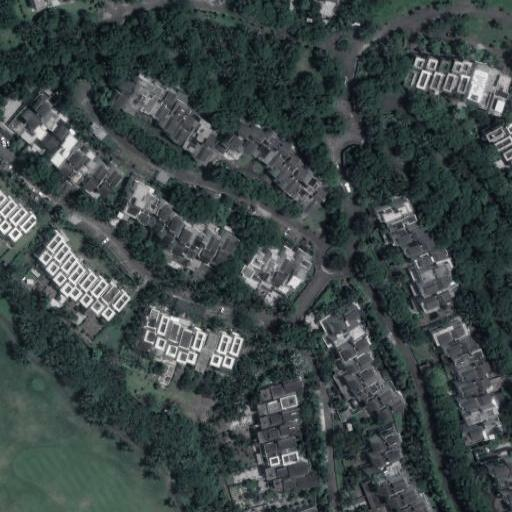building: (8, 90, 125, 197), (117, 178, 242, 269), (223, 117, 331, 214), (372, 195, 454, 313), (432, 321, 506, 447), (327, 306, 406, 421), (38, 231, 133, 322), (125, 75, 217, 165), (143, 307, 243, 374), (256, 381, 315, 492), (408, 57, 512, 118), (369, 432, 427, 512), (239, 246, 314, 293), (0, 190, 39, 242), (235, 496, 316, 512), (488, 454, 512, 505), (177, 300, 206, 316), (87, 121, 108, 142), (485, 127, 505, 144), (490, 374, 506, 391), (204, 131, 220, 148), (495, 136, 512, 152), (101, 135, 117, 151), (212, 143, 227, 156), (155, 172, 169, 184), (503, 148, 512, 161), (507, 124, 512, 134), (328, 0, 339, 2)
